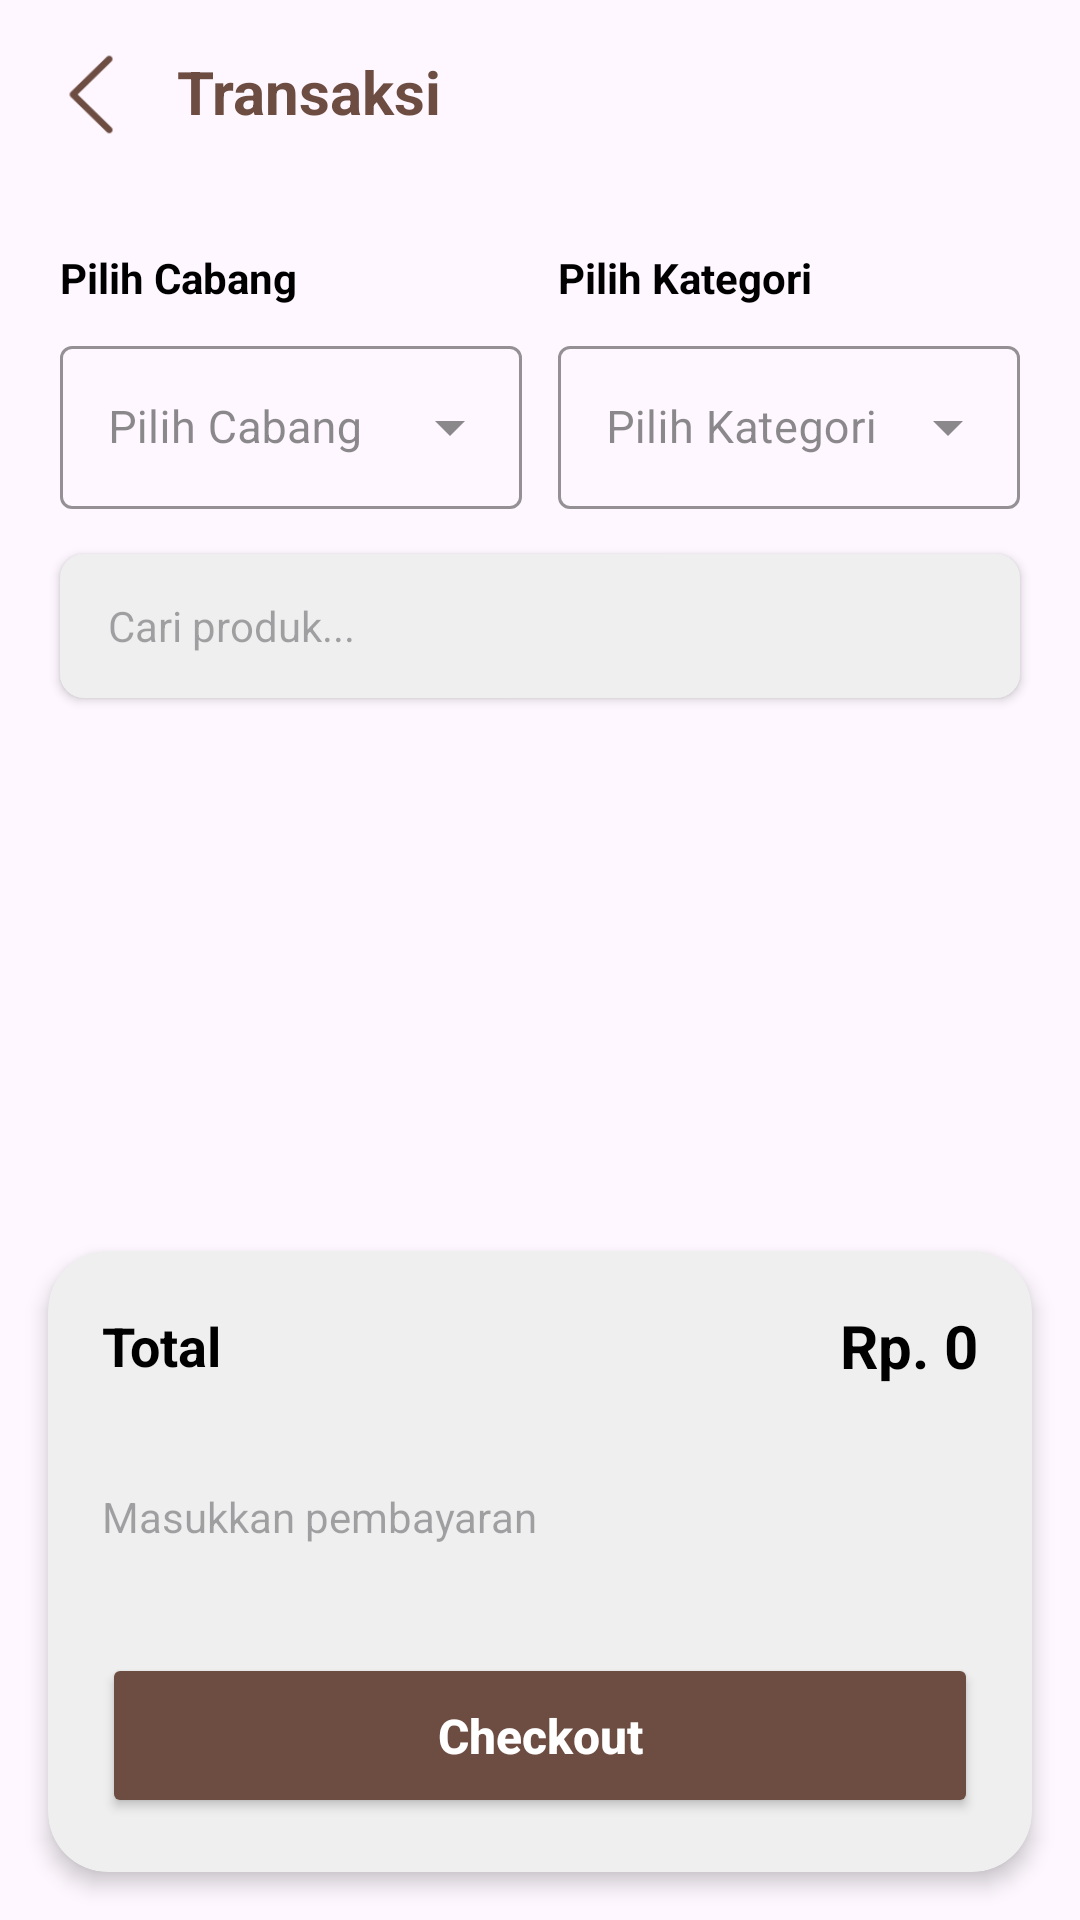

Point at icon controls on the screen. Image size 1080px x 1920px, points as (x=x, y=y).
Kembali: (x=91, y=94)
